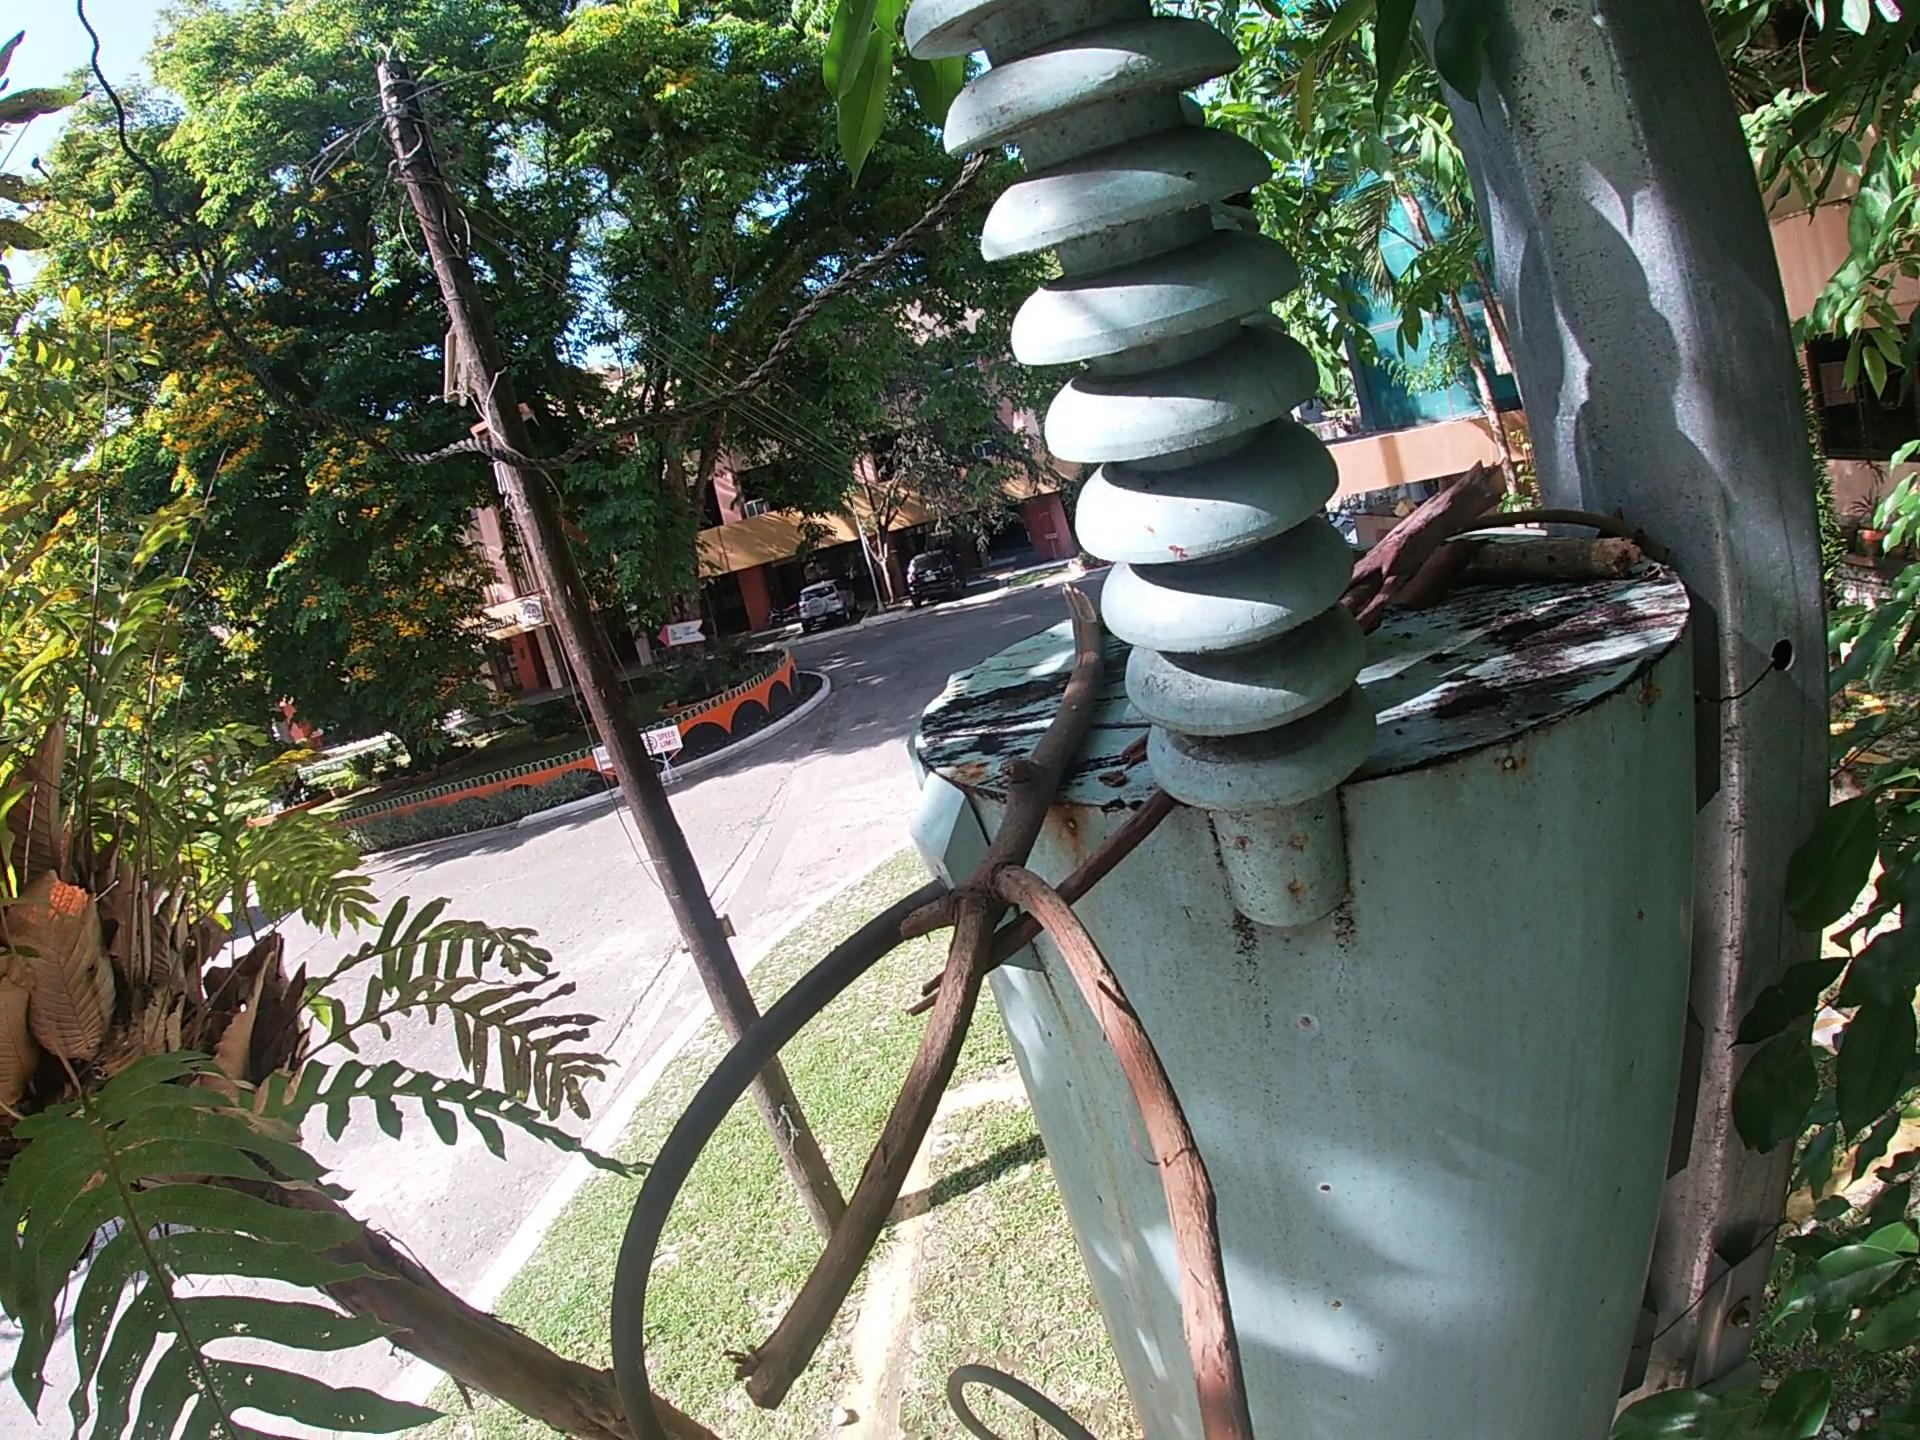leaf: (1385, 529, 1497, 622)
tree branch: (720, 572, 1271, 1438), (909, 781, 1184, 1023), (1338, 455, 1513, 650), (1457, 532, 1646, 591), (1457, 501, 1666, 542)
